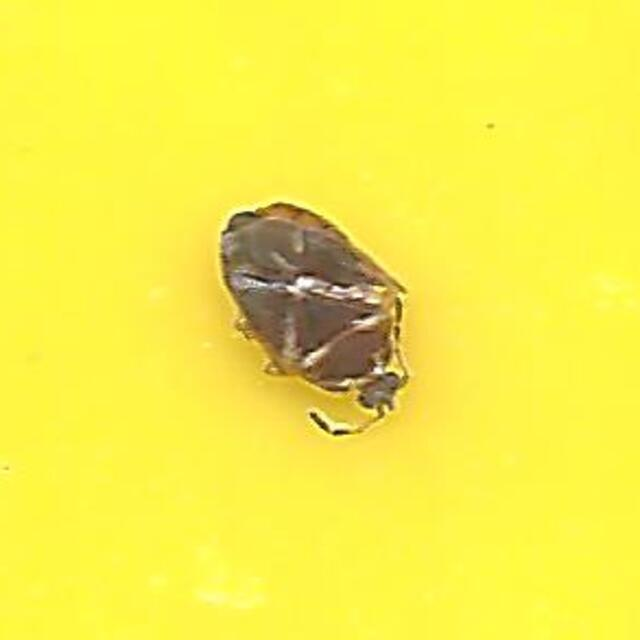Hemiptera: (218, 196, 422, 444)
